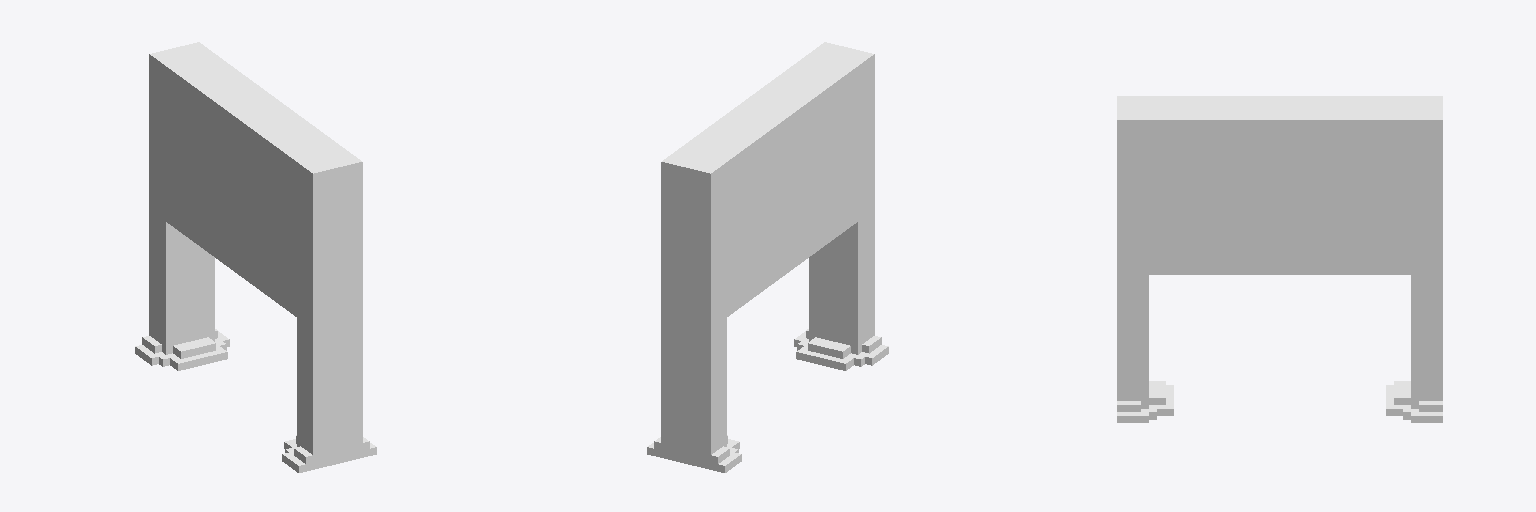
File: BPW2_obstacle_Billboard.obj
3 views of the same model, side by side, from view 1: azimuth 30°, elevation 25°; view 2: azimuth 150°, elevation 25°; view 3: azimuth 270°, elevation 25° (orthographic).
Parts seen in each view (by area): view 1: BPW2_obstacle_Billboard; view 2: BPW2_obstacle_Billboard; view 3: BPW2_obstacle_Billboard.
Part boxes in pixels (bbox=[...]): BPW2_obstacle_Billboard: bbox=[135, 42, 376, 472]; BPW2_obstacle_Billboard: bbox=[647, 42, 888, 472]; BPW2_obstacle_Billboard: bbox=[1117, 96, 1442, 422].
Size of the model in its own units: 11 by 40 by 40.